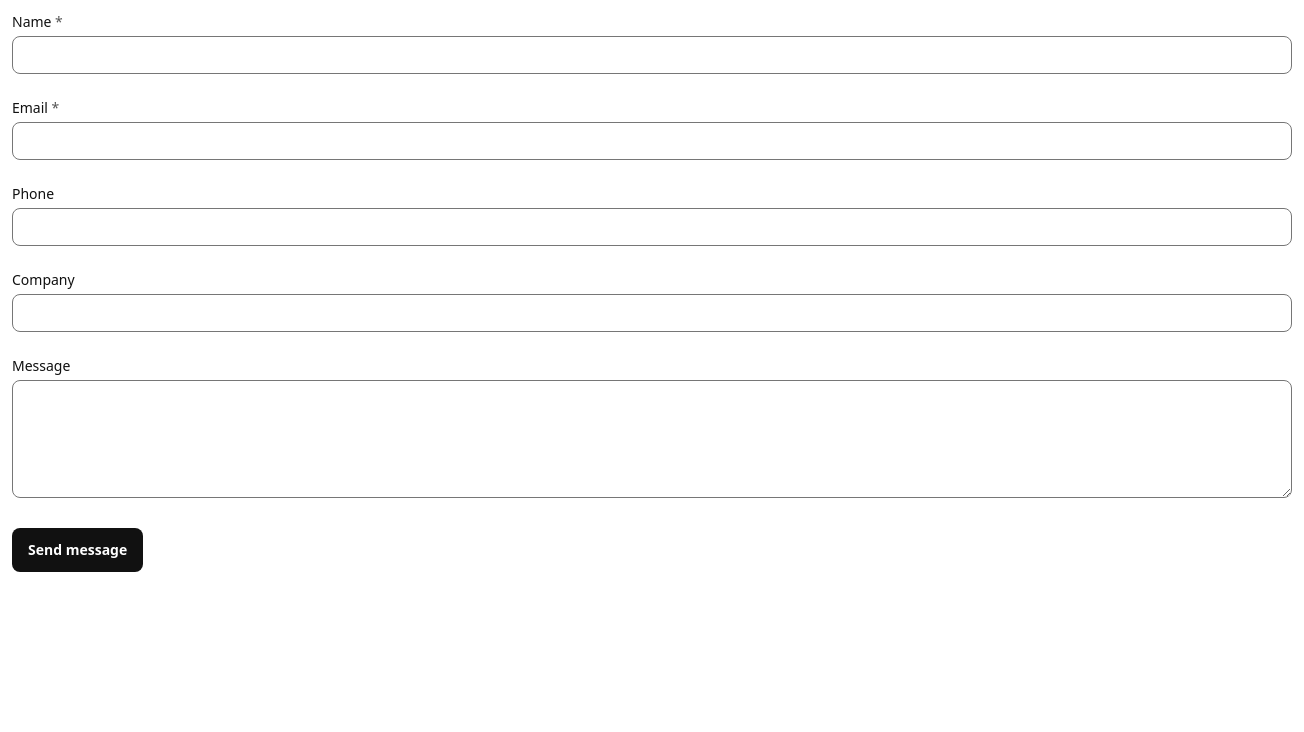
Test case: LeadForm › posts to /api/lead with the source, honeypot and attribution
This screenshot has width=1304, height=732.
Step 1. Type "Test Person" into the field labelled "Name *" → (652, 55), box [12,36,1292,74]
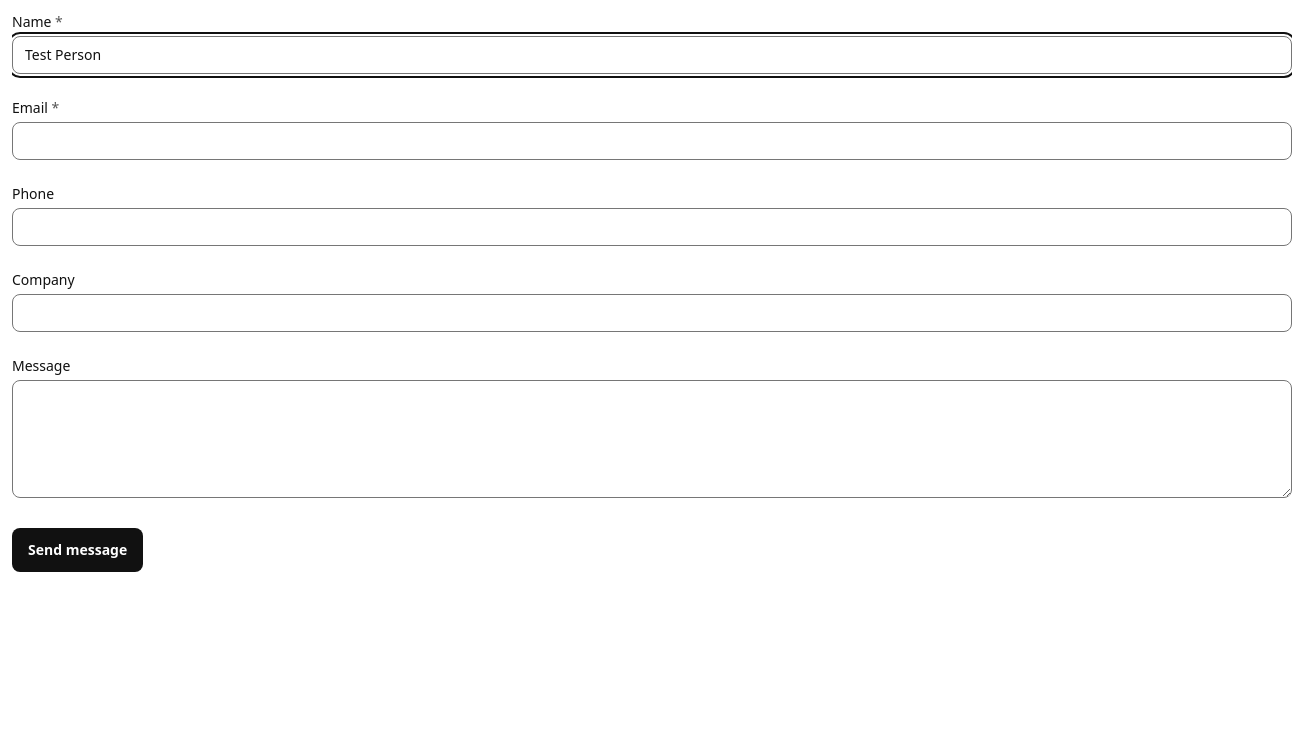
Step 2. Type "person@example.com" into the field labelled "Email *" → (652, 141), box [12,122,1292,160]
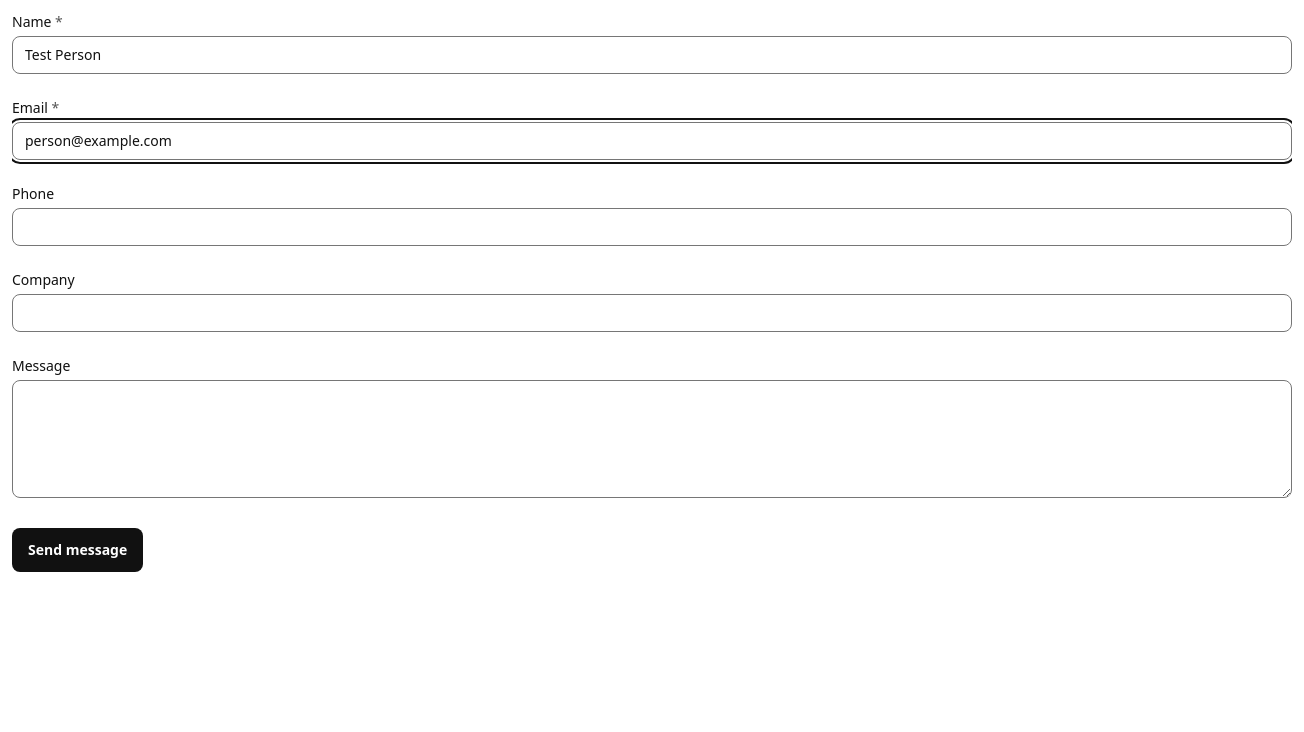
Step 3. Click the button "Send message" → click(78, 550), box [12,528,143,572]
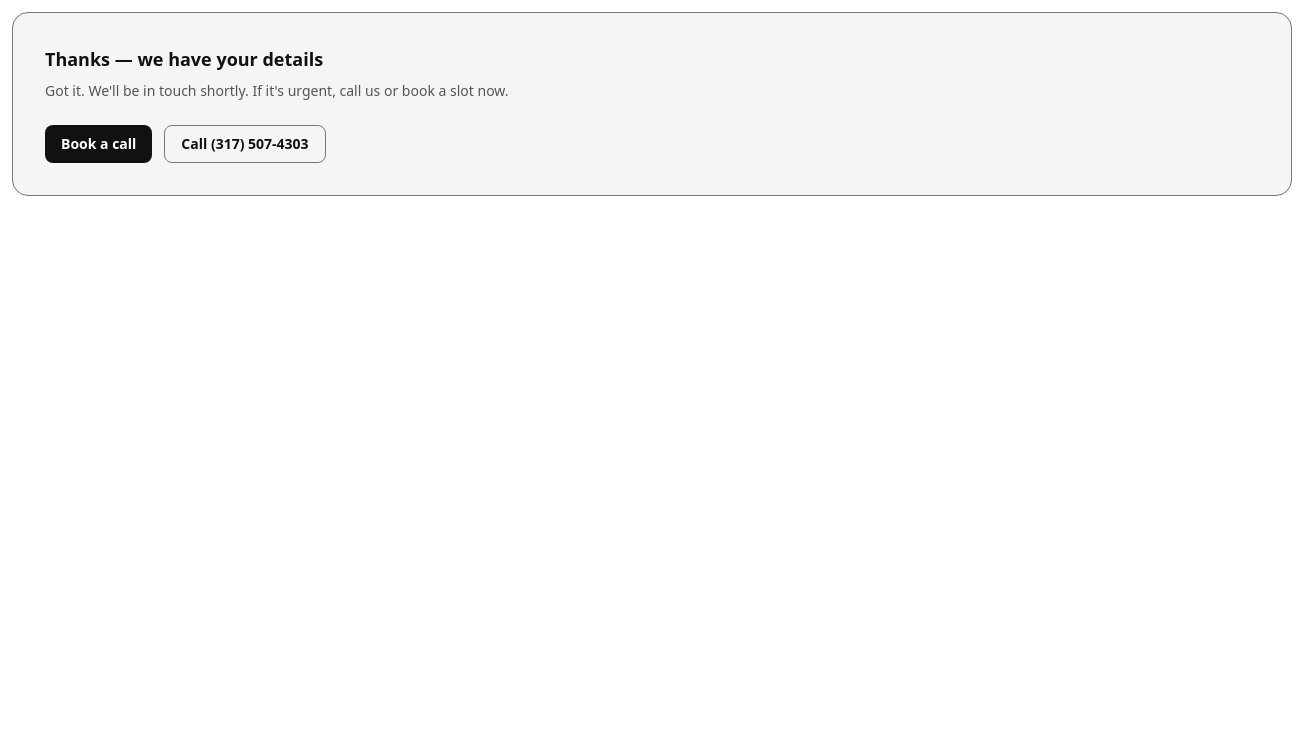
Expected: the message is shown, [12,12,1292,196]
